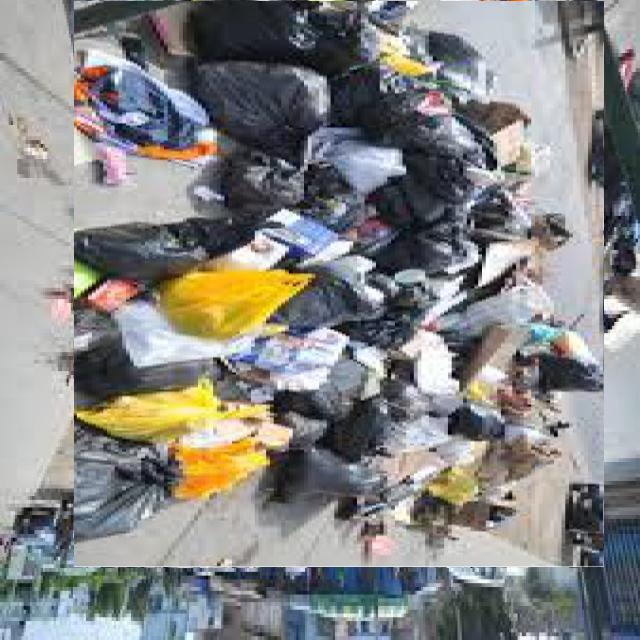Trashbag: (35, 414, 174, 553), (92, 196, 238, 278), (188, 55, 312, 142), (170, 0, 351, 53), (277, 441, 373, 522), (376, 173, 496, 231), (374, 226, 468, 290), (289, 266, 377, 332), (409, 122, 508, 176), (230, 145, 312, 204), (327, 390, 401, 444), (540, 359, 618, 400)
